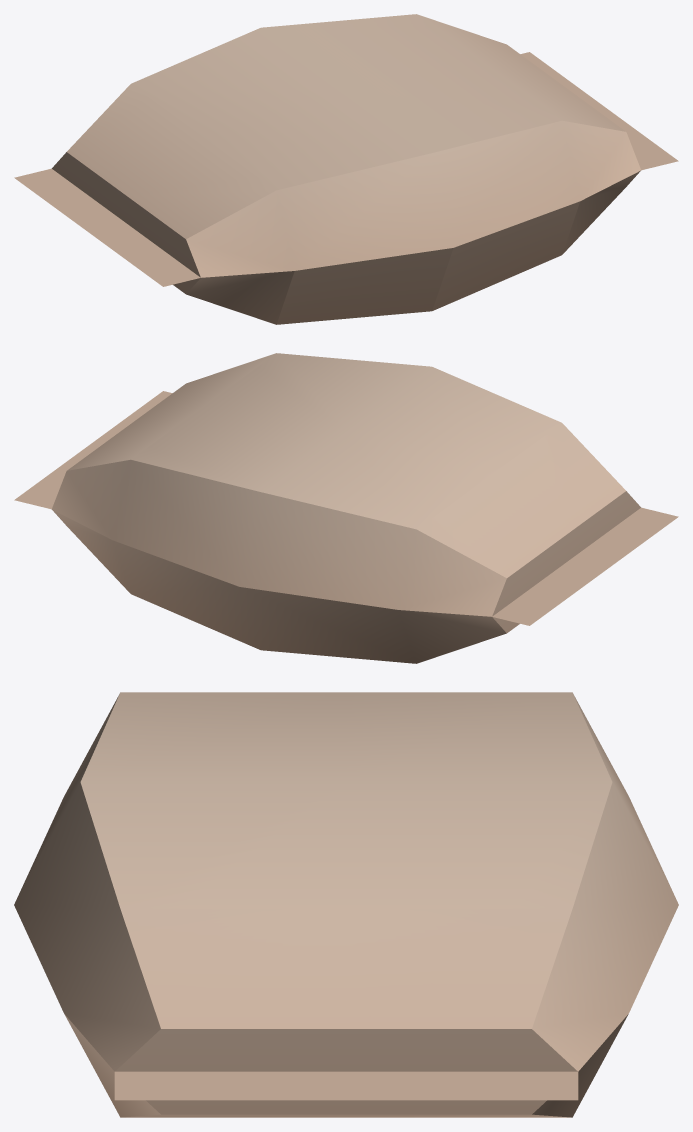
The model's file is bag-flat.glb.
3 renders of one model, top to bottom at view 1: azimuth 30°, elevation 25°; view 2: azimuth 150°, elevation 25°; view 3: azimuth 270°, elevation 25°, orthographic. The views are drawn at different scales.
Visible parts, largest first — view 1: bag-flat; view 2: bag-flat; view 3: bag-flat.
Part boxes in pixels (x1,y1,x2,y2): bag-flat: (14,14,678,324); bag-flat: (14,353,678,663); bag-flat: (14,692,678,1117).
Bounding box in the file's own units: 0.65 × 0.1905 × 0.4675.
